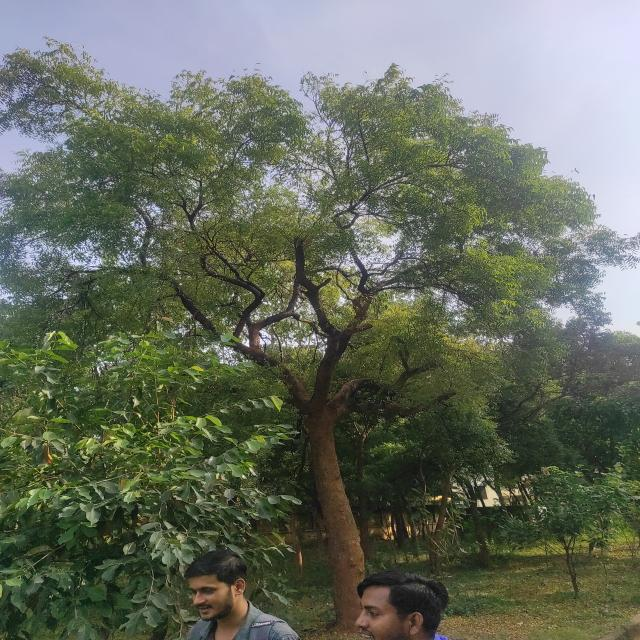Neem Tree: (55, 58, 616, 431)
